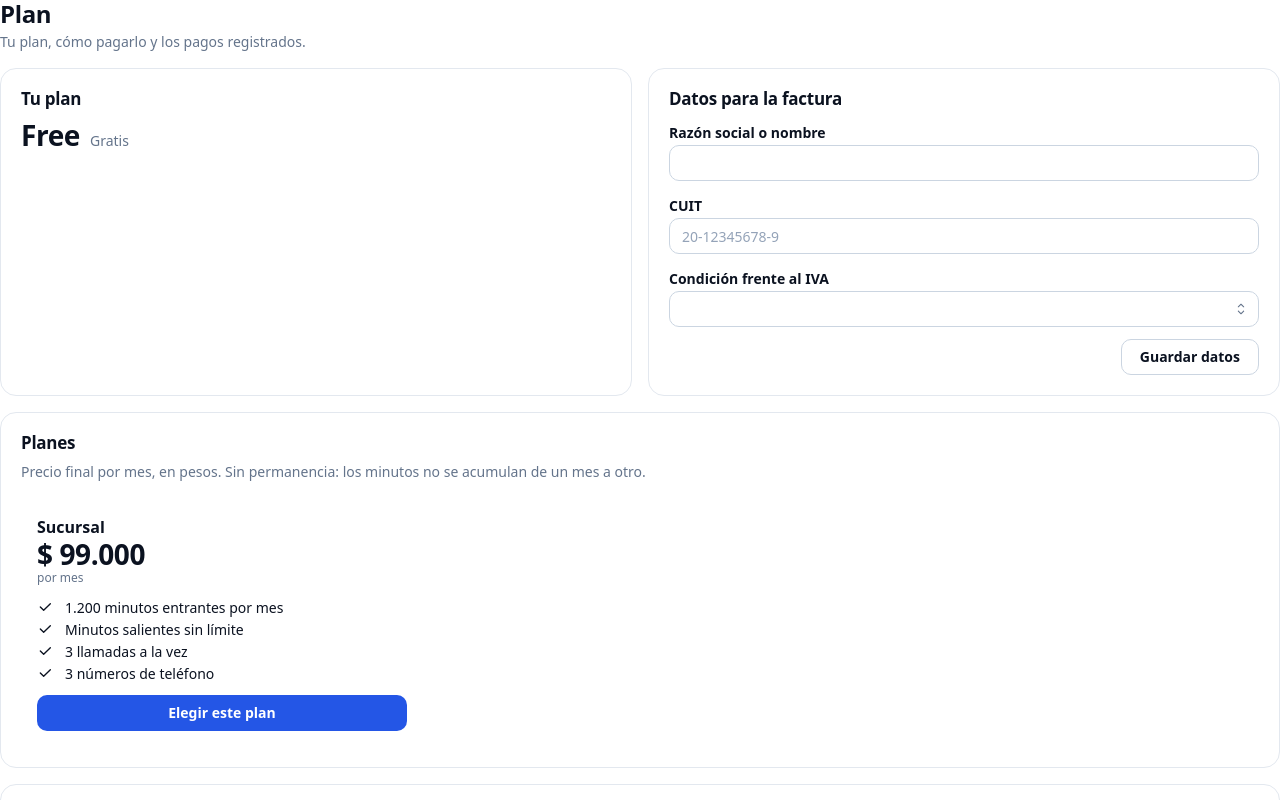
PlanPage › sin datos fiscales los pide antes del plan
Click the button "Elegir este plan": (222, 713) [37,695,407,731]
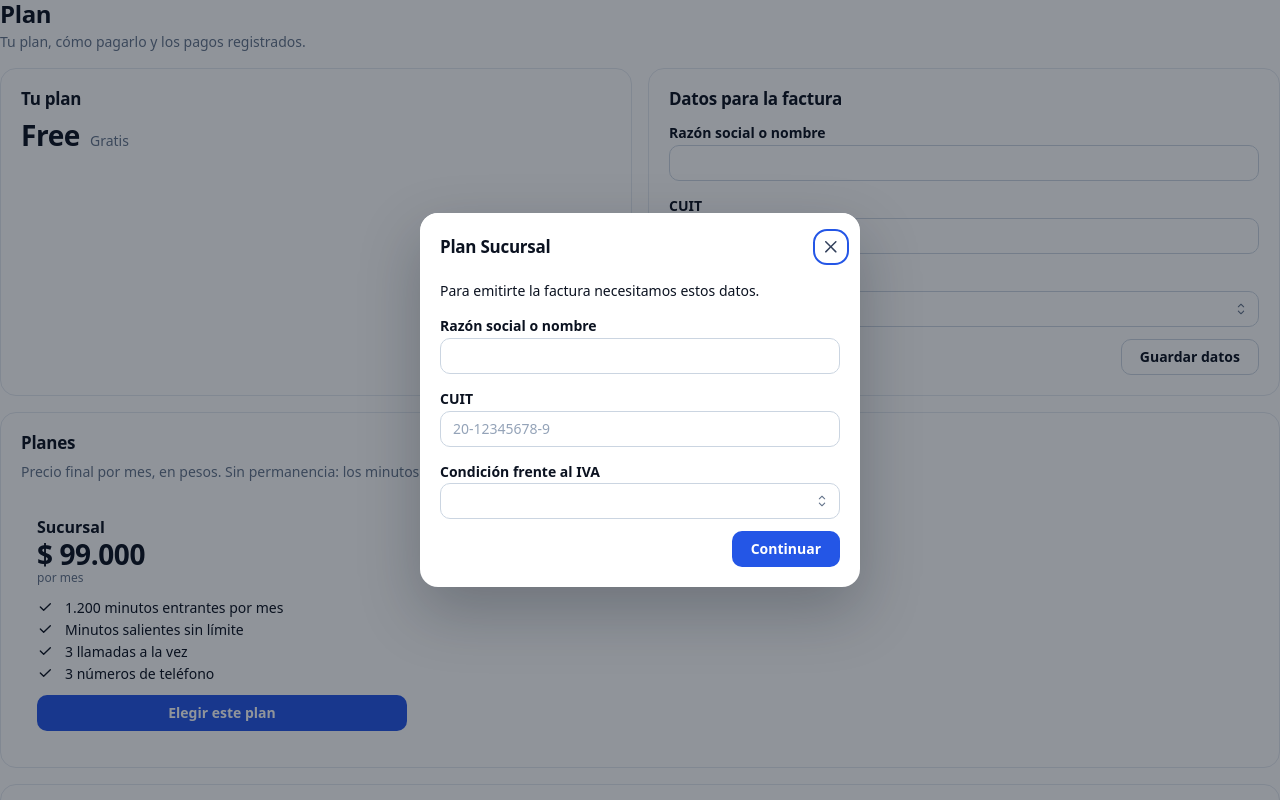
Expected: the button "Continuar" is shown
Click the button "Continuar": (786, 549) [732,531,840,567]
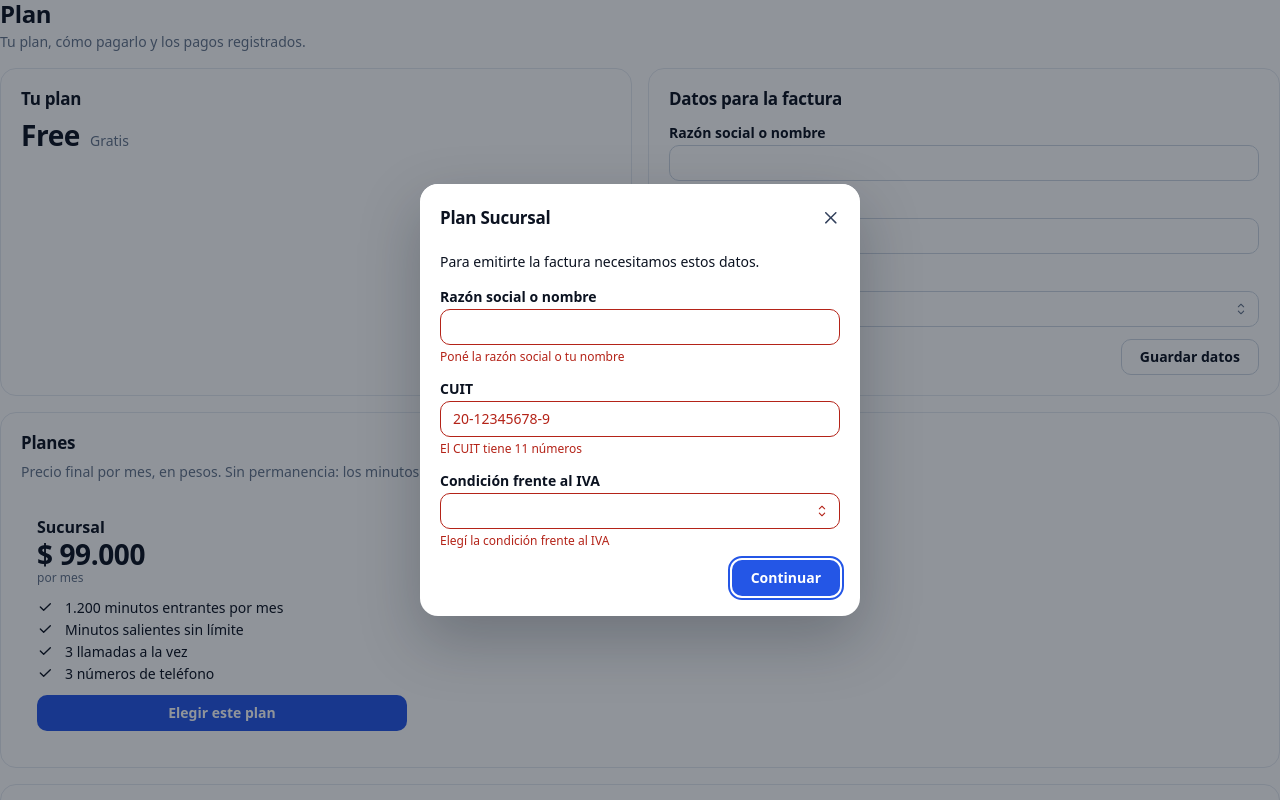
Expected: the text "El CUIT tiene 11 números" is shown, [440,440,582,457]
